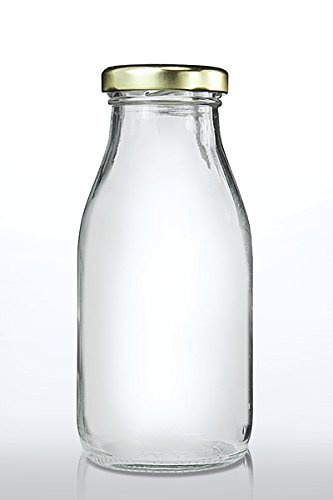emptybottle: (73, 67, 253, 476)
